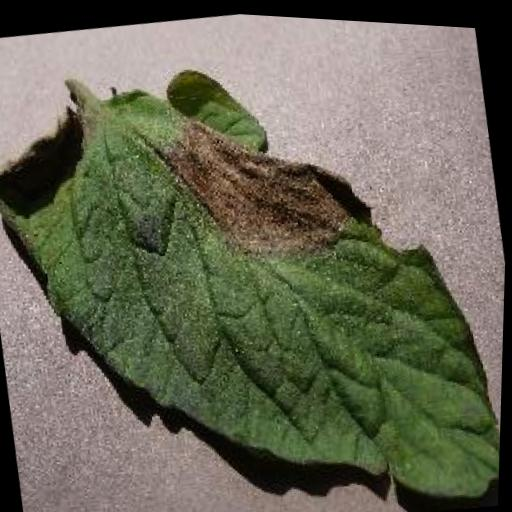Late Blight: (0, 10, 512, 512)
